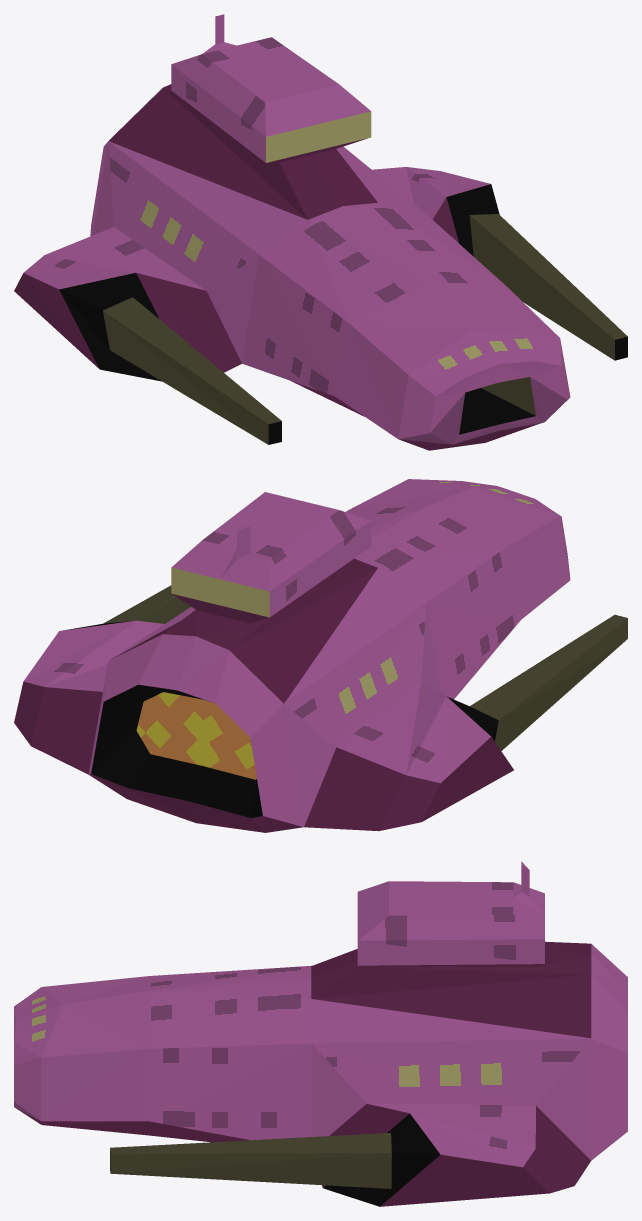
File: gamilon_medium.glb
3 renders of one model, top to bottom at view 1: azimuth 30°, elevation 25°; view 2: azimuth 150°, elevation 25°; view 3: azimuth 270°, elevation 25°, orthographic. The views are drawn at different scales.
Parts seen in each view (by area): view 1: GamilonMedium; view 2: GamilonMedium; view 3: GamilonMedium.
Part boxes in pixels (x1,y1,x2,y2): GamilonMedium: (14,14,627,450); GamilonMedium: (14,479,627,832); GamilonMedium: (14,861,627,1206).
Bounding box in the file's own units: 4.65 × 2.82 × 5.99.
1 material, 1 textured.
